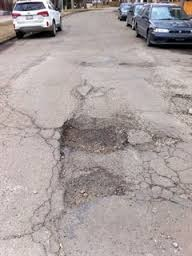pothole: (52, 166, 128, 203), (48, 120, 133, 153), (171, 83, 190, 133), (154, 184, 191, 208), (133, 136, 178, 152)
